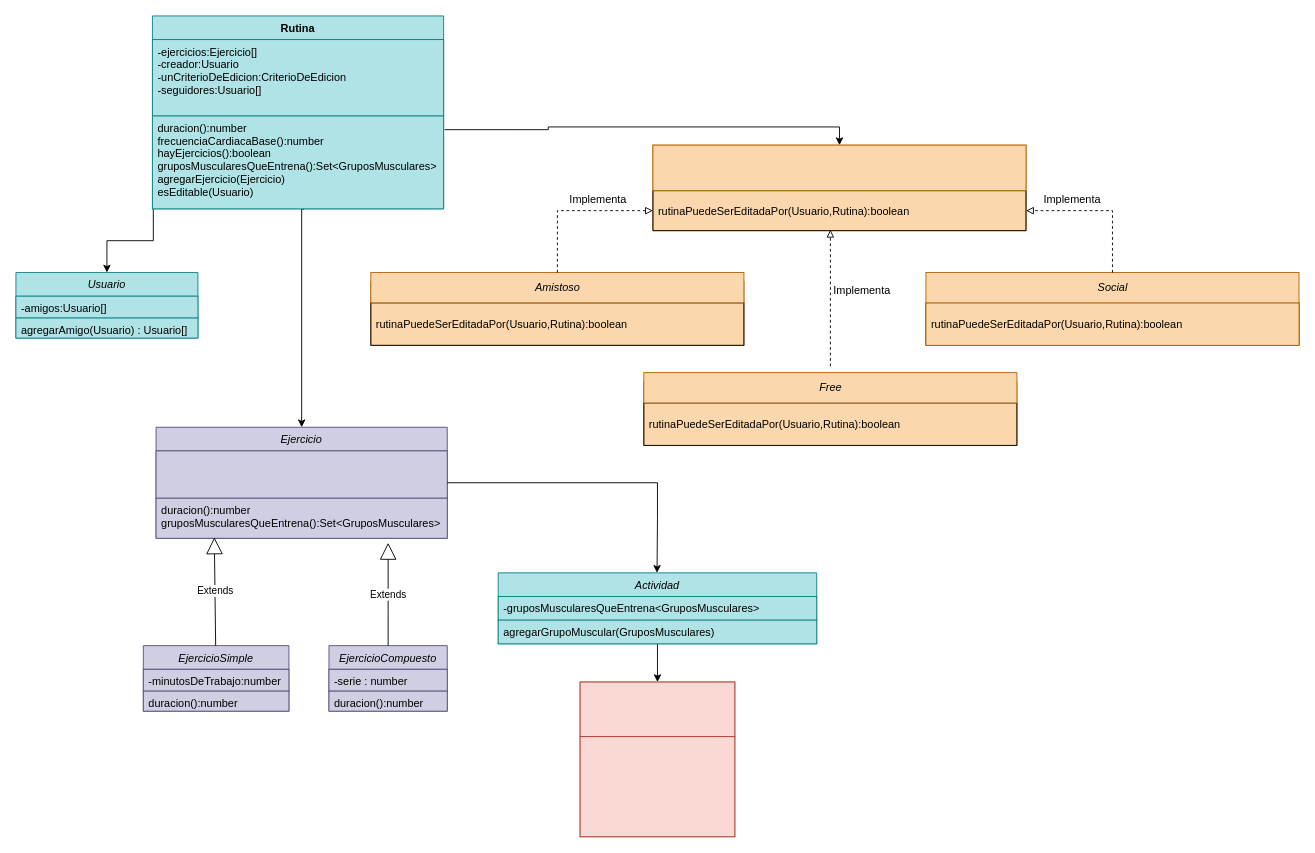
Some shapes in this 1315 by 853 pixel diagram are drawn without their labels. The centre of each missing label's shape, as x and y in pixels:
"-frecuenciaCardiacaBase:number -minutosDeDescanso:number -unaActividad:Actividad" goes at point (301, 474).
"PIERNAS HOMBROS BRAZOS PECHO ESPALDA GLUTEOS ABDOMEN" goes at point (657, 786).
"«enum» Grupos Musculares" goes at point (657, 709).
"«interface» CriterioDeEdicion" goes at point (839, 167).
